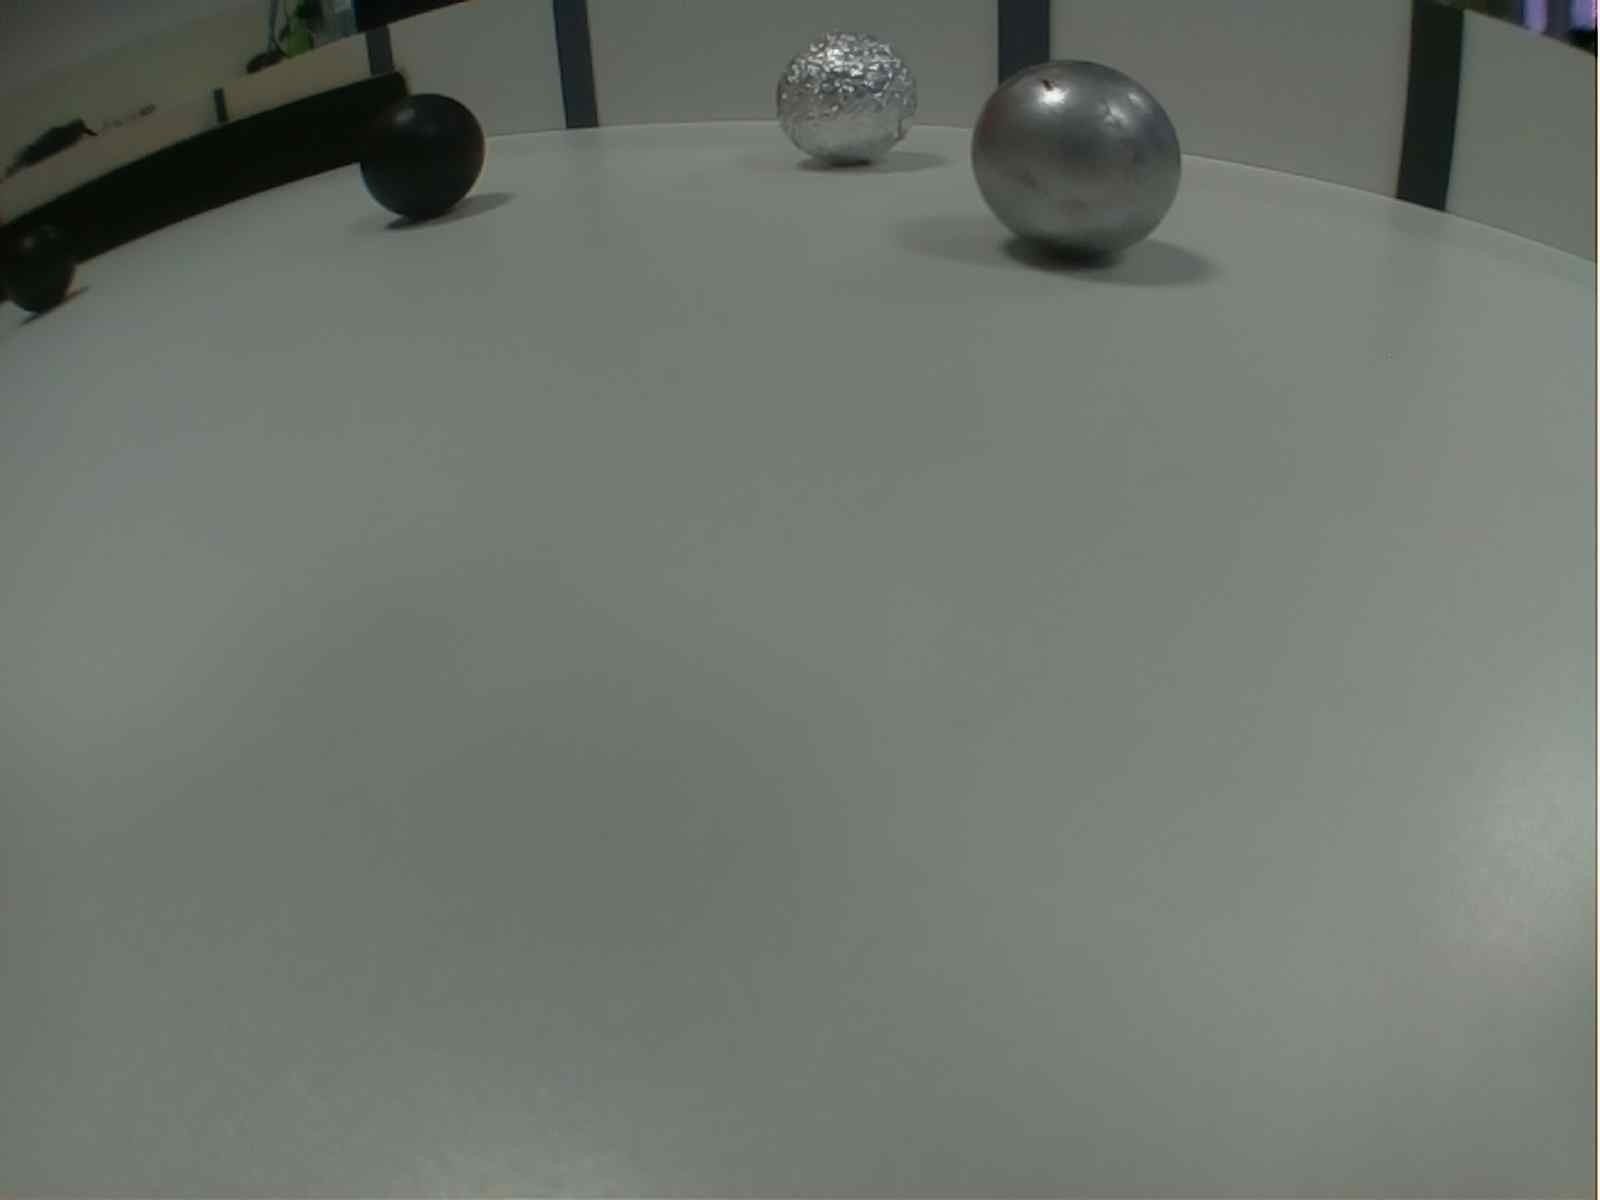bianca: (973, 58, 1182, 268), (777, 32, 912, 166)
nera: (357, 92, 486, 221), (1, 234, 78, 313)
